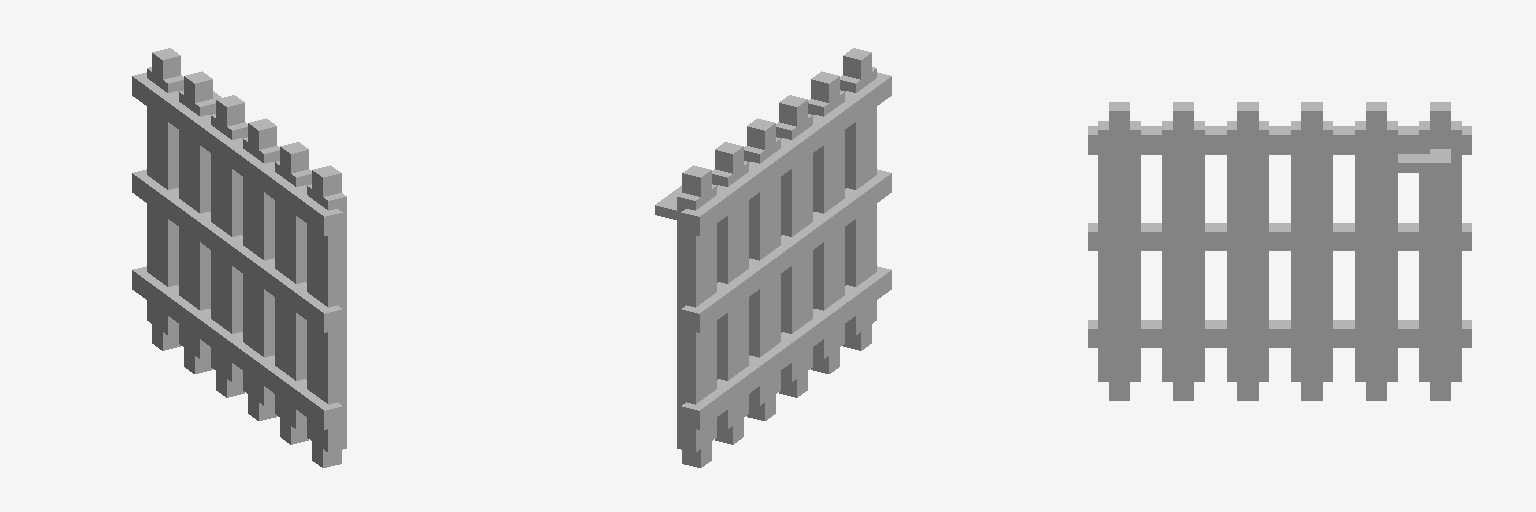
The model's file is Fences-4-Fence Door.obj.
3 renders of one model, left to right at view 1: azimuth 30°, elevation 25°; view 2: azimuth 150°, elevation 25°; view 3: azimuth 270°, elevation 25°, orthographic.
Parts seen in each view (by area): view 1: Fence Door; view 2: Fence Door; view 3: Fence Door.
Boxes of the visible parts, <box> form: Fence Door: <box>132,48,346,467</box>; Fence Door: <box>655,48,891,467</box>; Fence Door: <box>1088,102,1471,400</box>.
Size of the model in its own units: 0.6 by 3 by 3.6.